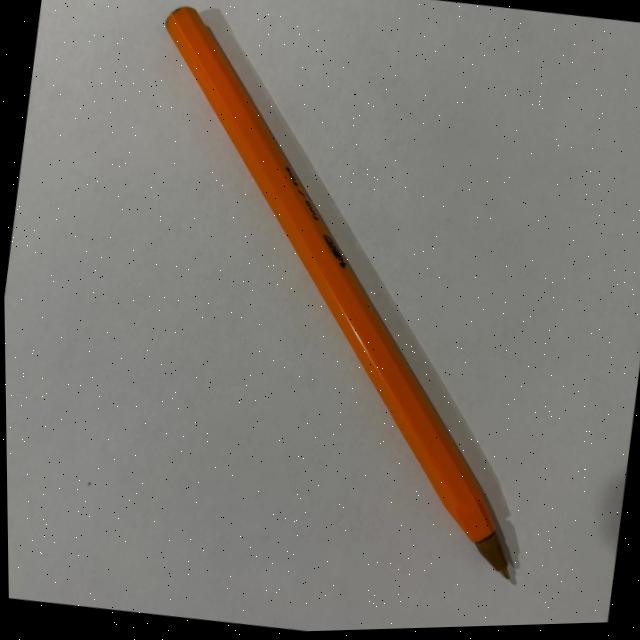pencil: (163, 6, 507, 584)
